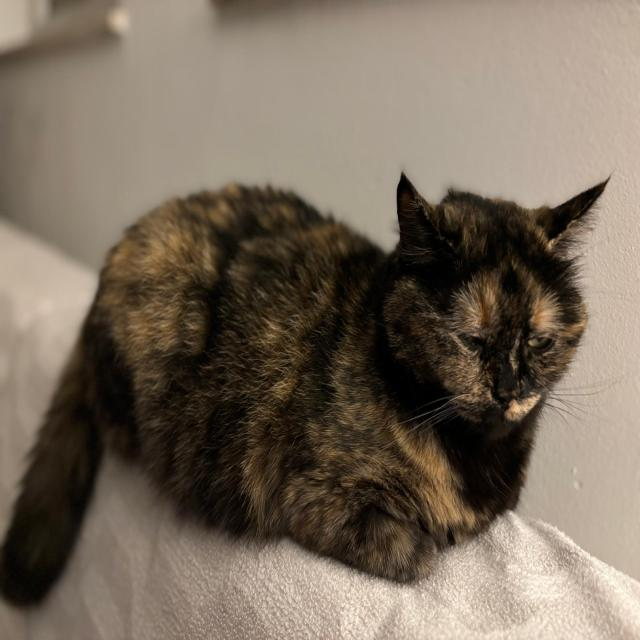authorized: (1, 169, 613, 609)
